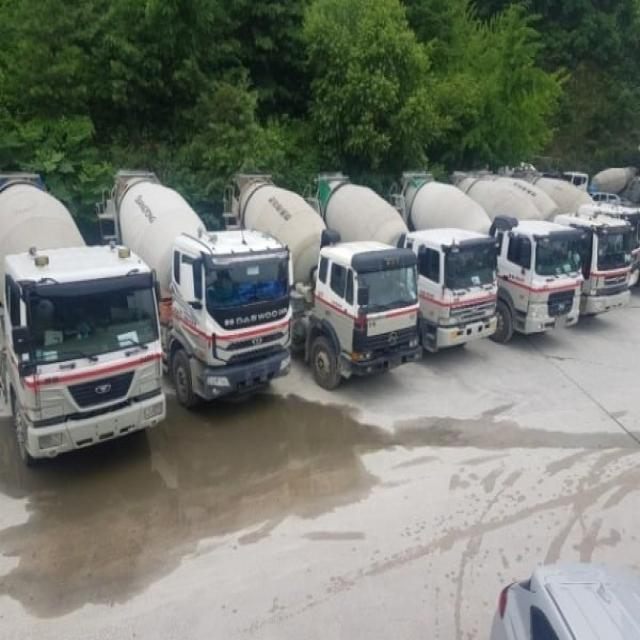mixed: (0, 171, 167, 467), (97, 171, 294, 410), (220, 172, 423, 393), (303, 170, 500, 359), (388, 171, 584, 347), (448, 171, 632, 328), (503, 171, 640, 289)
